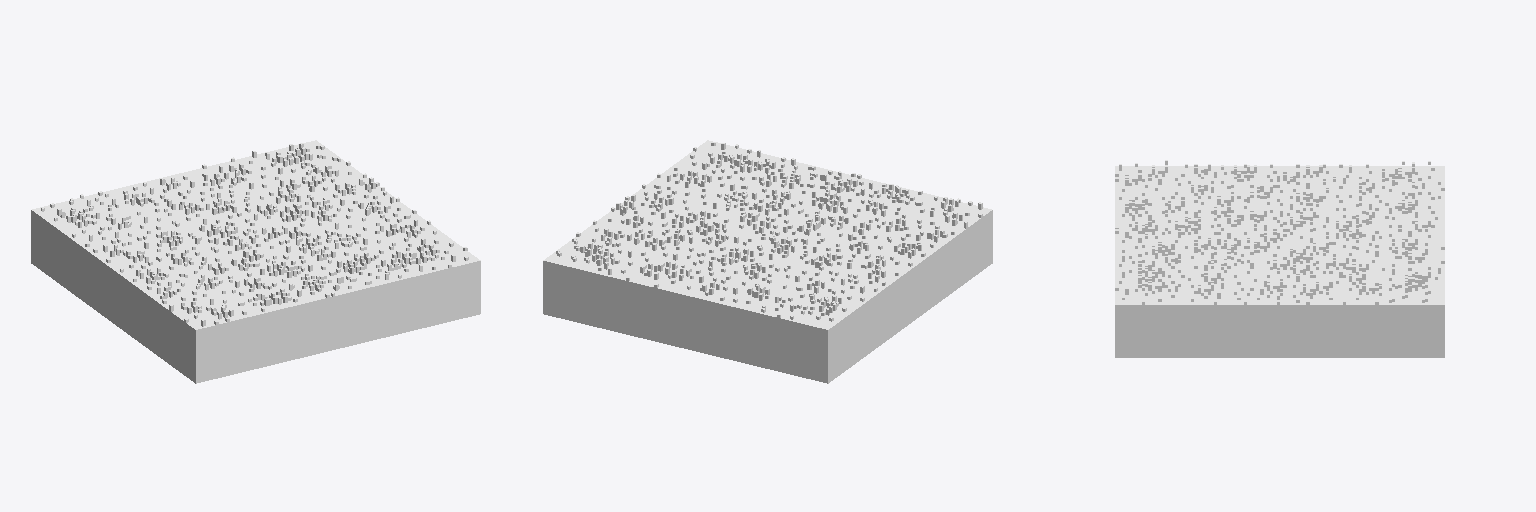
The model's file is orange-100x100-grass-lush-4.obj.
3 views of the same model, side by side, from view 1: azimuth 30°, elevation 25°; view 2: azimuth 150°, elevation 25°; view 3: azimuth 270°, elevation 25° (orthographic).
Visible parts, largest first — view 1: orange-100x100-grass-lush-4; view 2: orange-100x100-grass-lush-4; view 3: orange-100x100-grass-lush-4.
Part boxes in pixels (x1,y1,x2,y2): orange-100x100-grass-lush-4: (31,140,480,383); orange-100x100-grass-lush-4: (543,140,992,383); orange-100x100-grass-lush-4: (1115,160,1444,357).
Bounding box in the file's own units: 100 × 22 × 100.